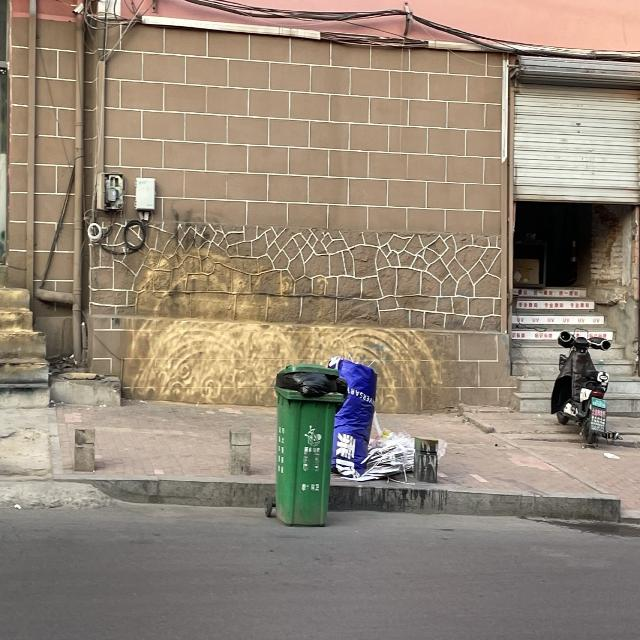garbage: (326, 357, 445, 485)
overflow: (272, 362, 348, 526)
